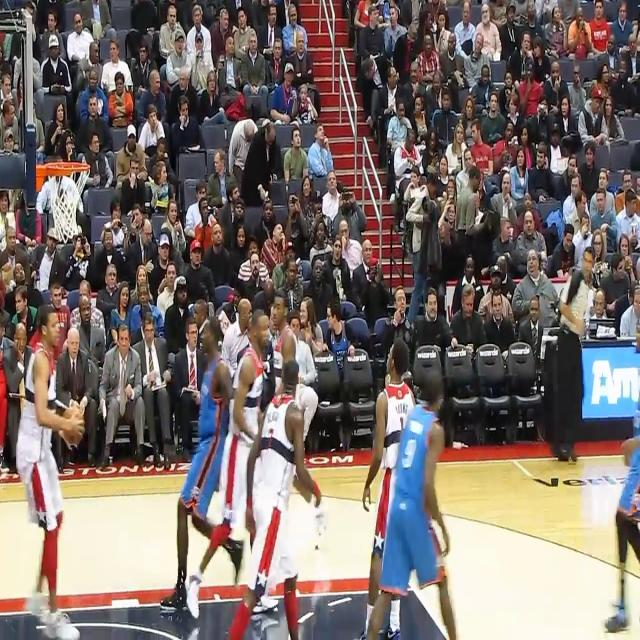ball: (62, 409, 84, 450)
